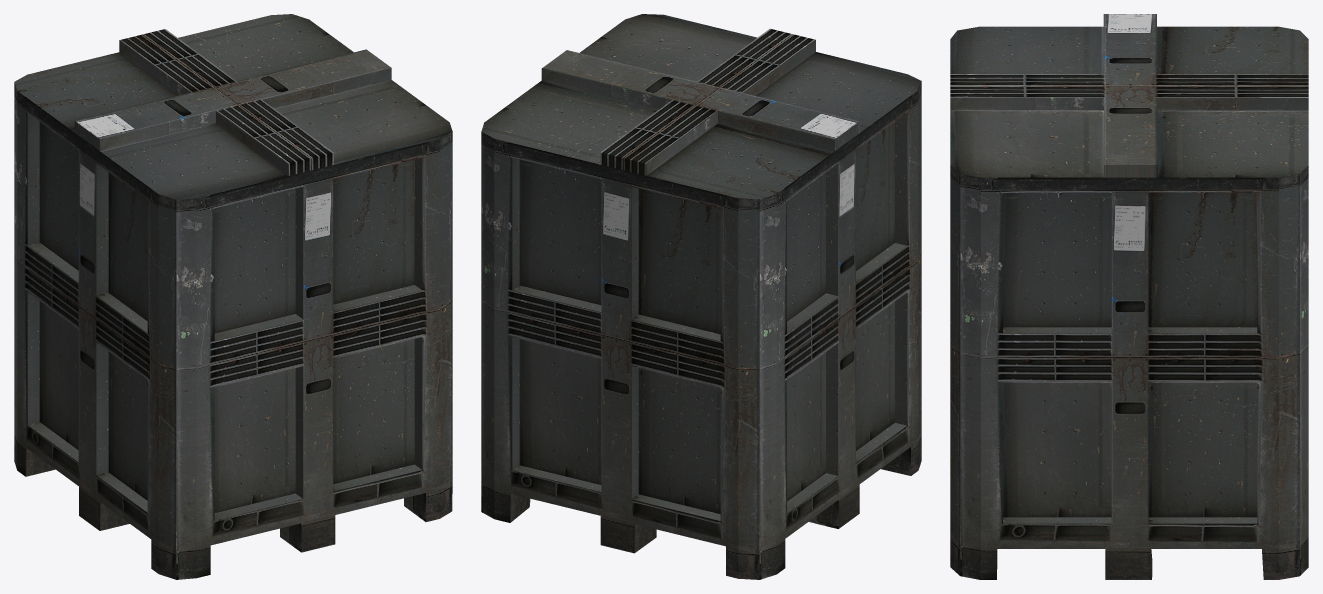
File: crate-2.FBX
3 views of the same model, side by side, from view 1: azimuth 30°, elevation 25°; view 2: azimuth 150°, elevation 25°; view 3: azimuth 270°, elevation 25° (orthographic). The views are drawn at different scales.
Parts seen in each view (by area): view 1: crate-2_LOD0; view 2: crate-2_LOD0; view 3: crate-2_LOD0.
Boxes of the visible parts, <box> form: crate-2_LOD0: <box>14,14,452,579</box>; crate-2_LOD0: <box>481,14,921,579</box>; crate-2_LOD0: <box>950,14,1308,579</box>.
Size of what is drawn, in the model's own units: 24.13 by 30.94 by 24.2.
